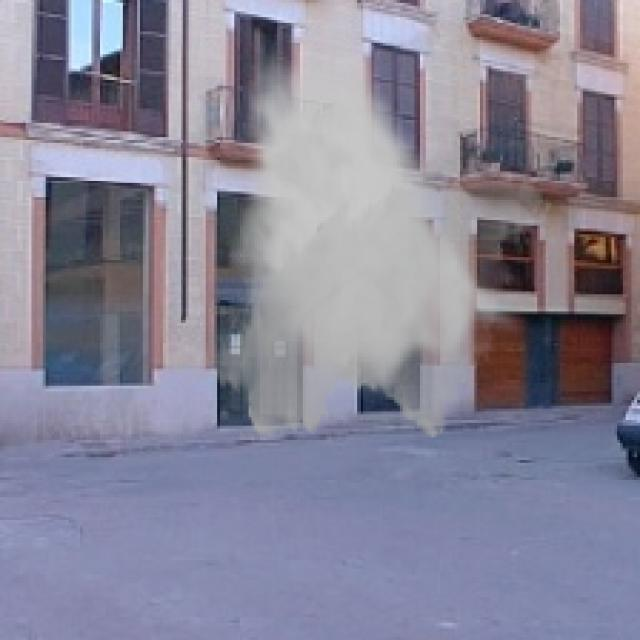Smoke: (202, 34, 554, 449)
